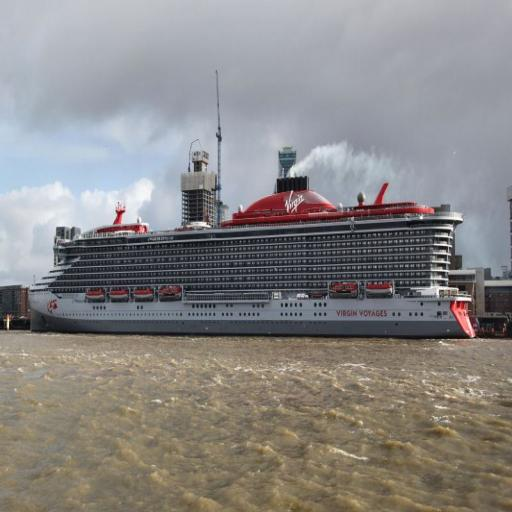cruises: (23, 170, 480, 347)
